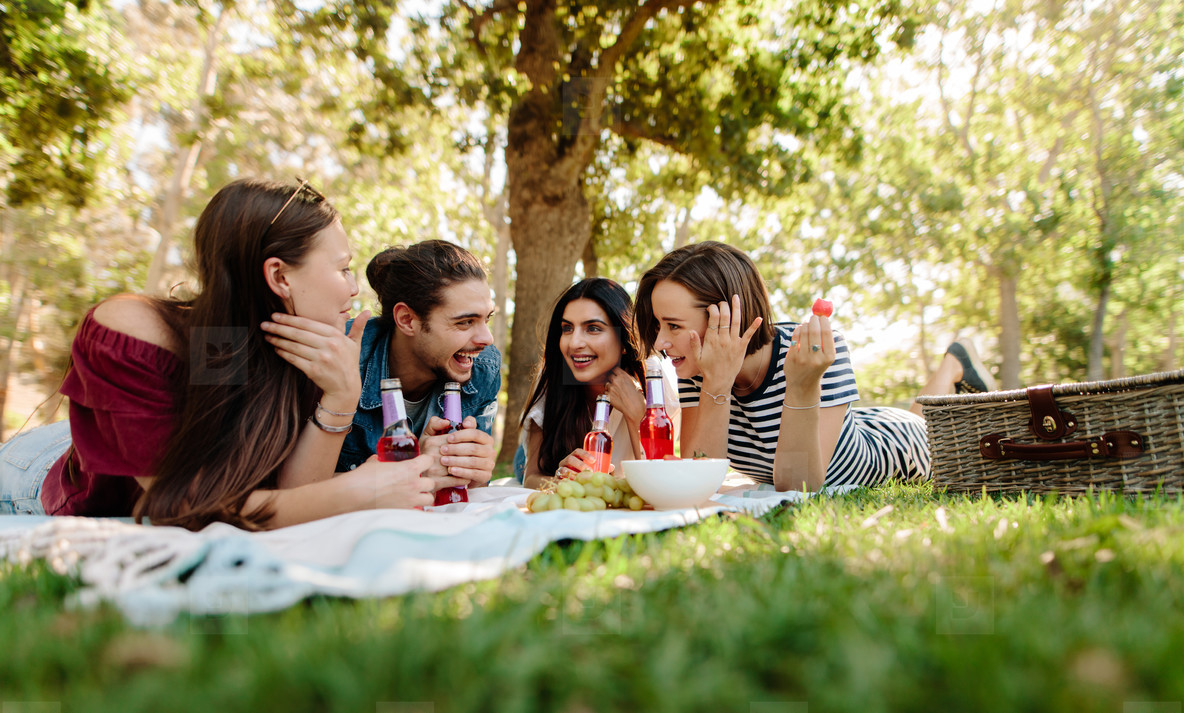Person: (1, 171, 436, 661), (631, 237, 995, 494), (349, 237, 504, 511), (514, 274, 647, 505)
